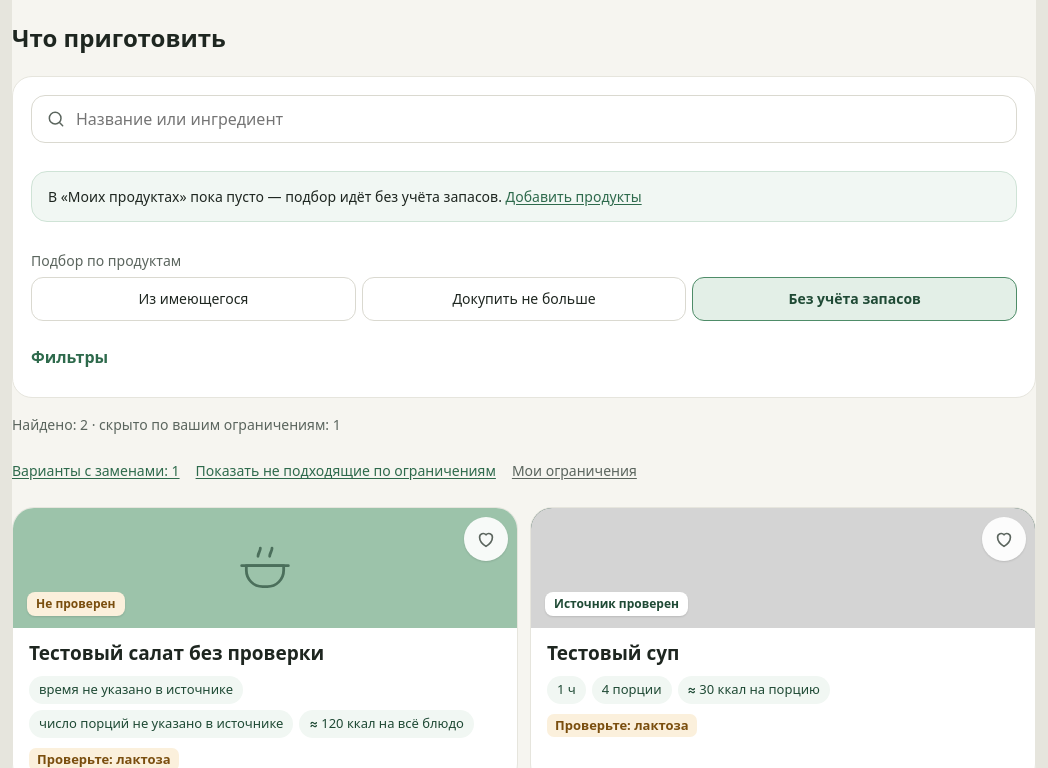
Scenario: режим «с заменами» в подборе › непереносимость лактозы: каша показывается с заменой
Expected: the link "молочная каша" is not shown
Click the button "Варианты с заменами: 1".
click(96, 471)  # box [12,449,180,493]
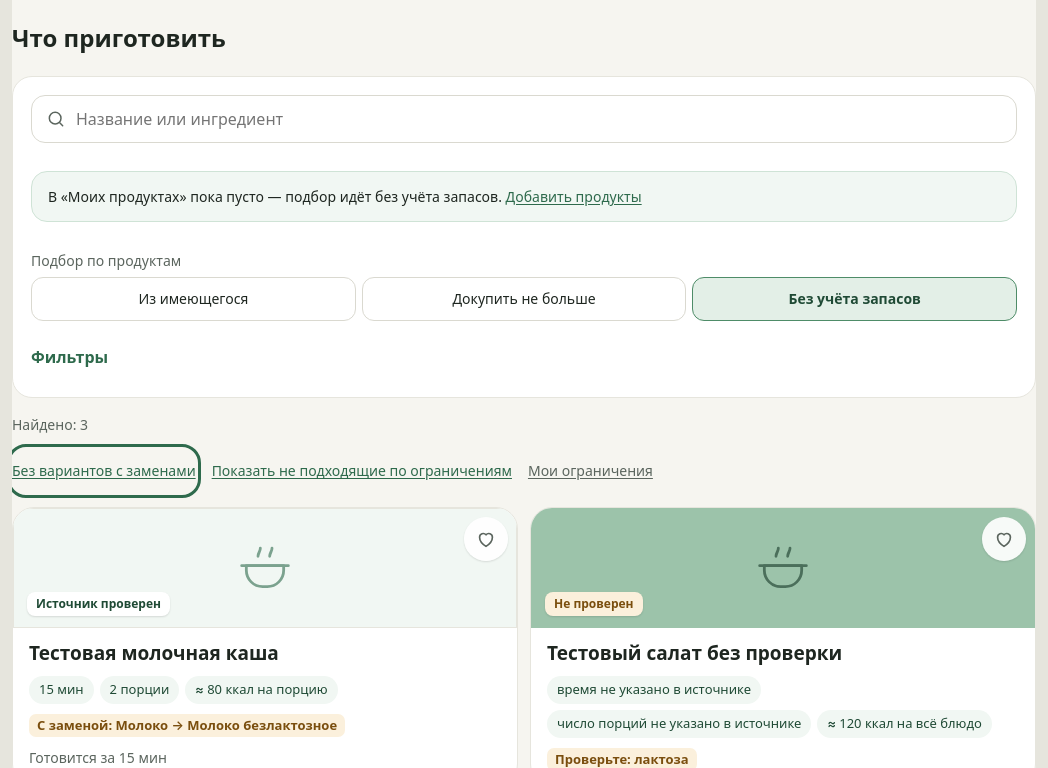
Result: the message no longer shows "скрыто" at [12,415,88,434]
Click the button "Без вариантов с заменами".
click(104, 471)  # box [12,449,196,493]
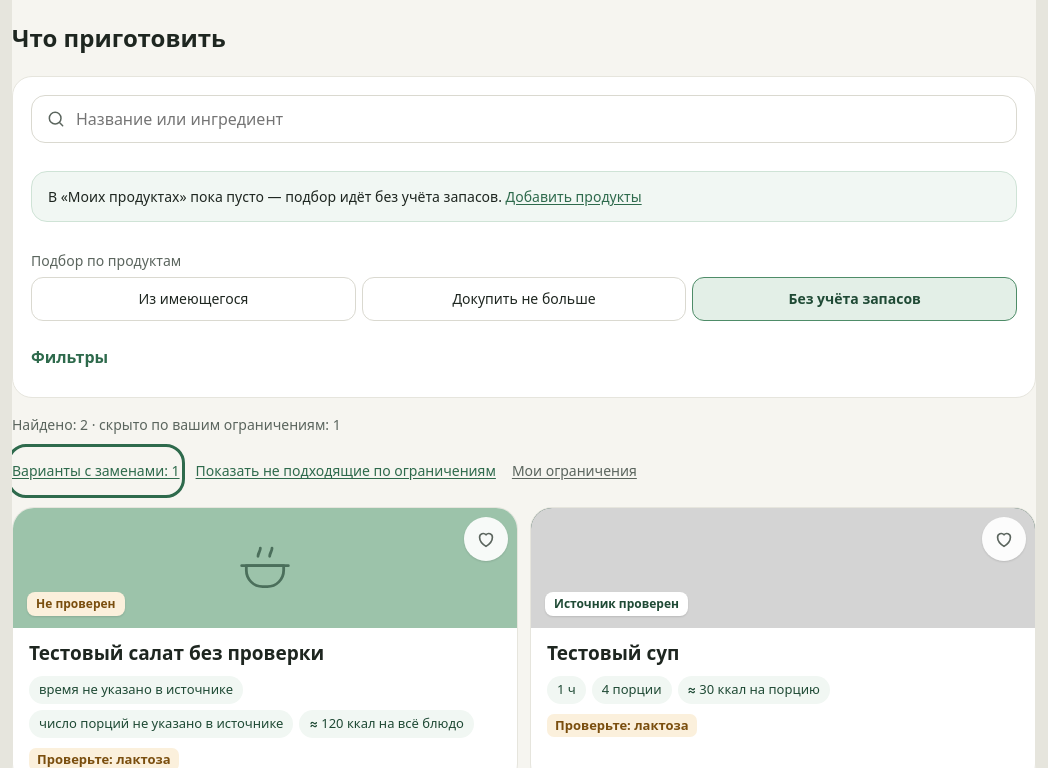
Result: the link "молочная каша" is gone
